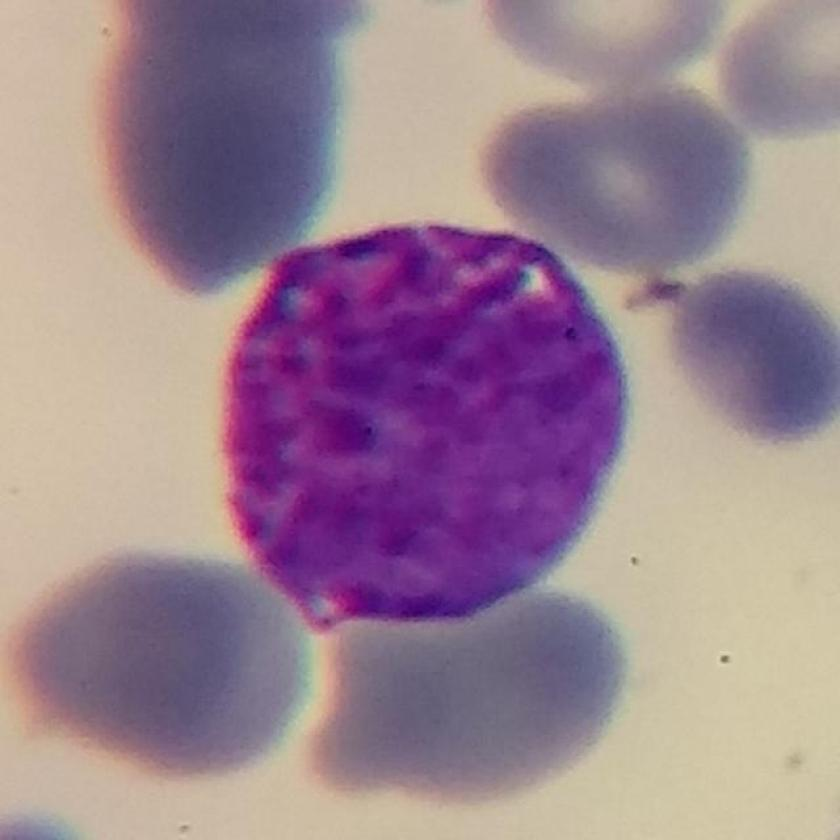basophil: (215, 214, 636, 639)
